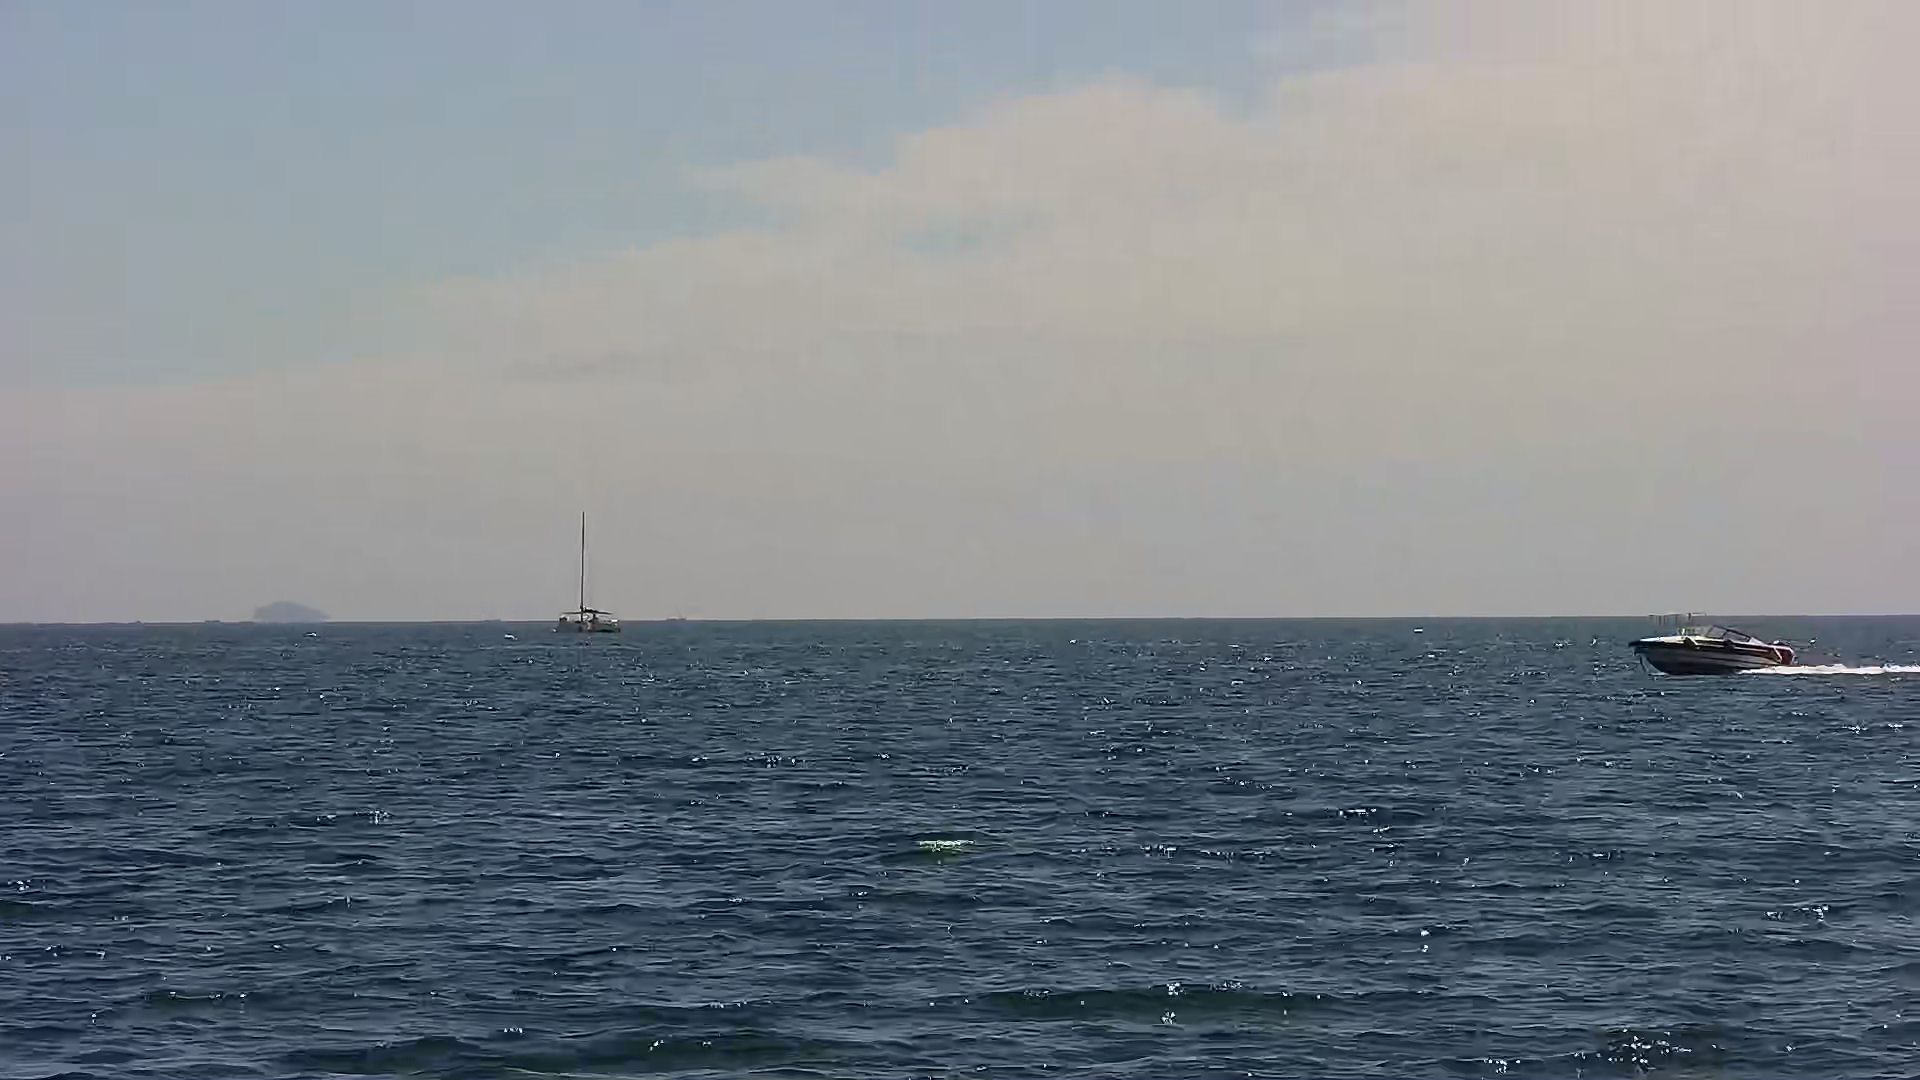boat: (1625, 613, 1797, 686), (559, 512, 621, 636)
